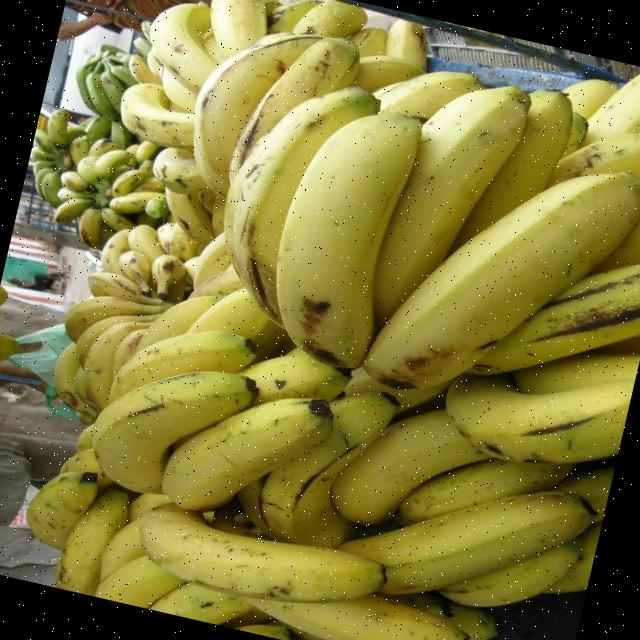banana: (362, 168, 640, 390), (276, 109, 424, 371), (139, 500, 387, 601), (92, 368, 259, 494), (161, 396, 337, 512), (445, 371, 635, 463)
